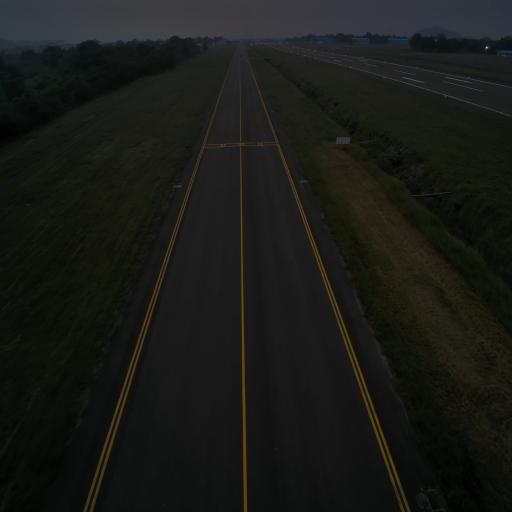on: (301, 176, 303, 182), (178, 181, 180, 186), (208, 111, 210, 114), (272, 109, 274, 112)
